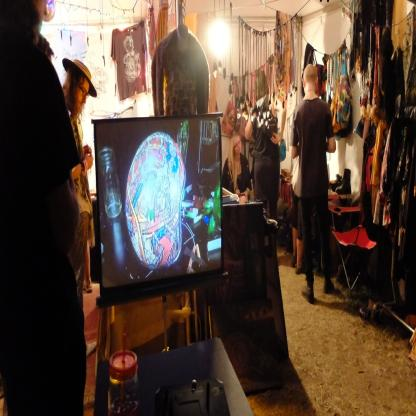Helmet: (124, 132, 207, 272)
